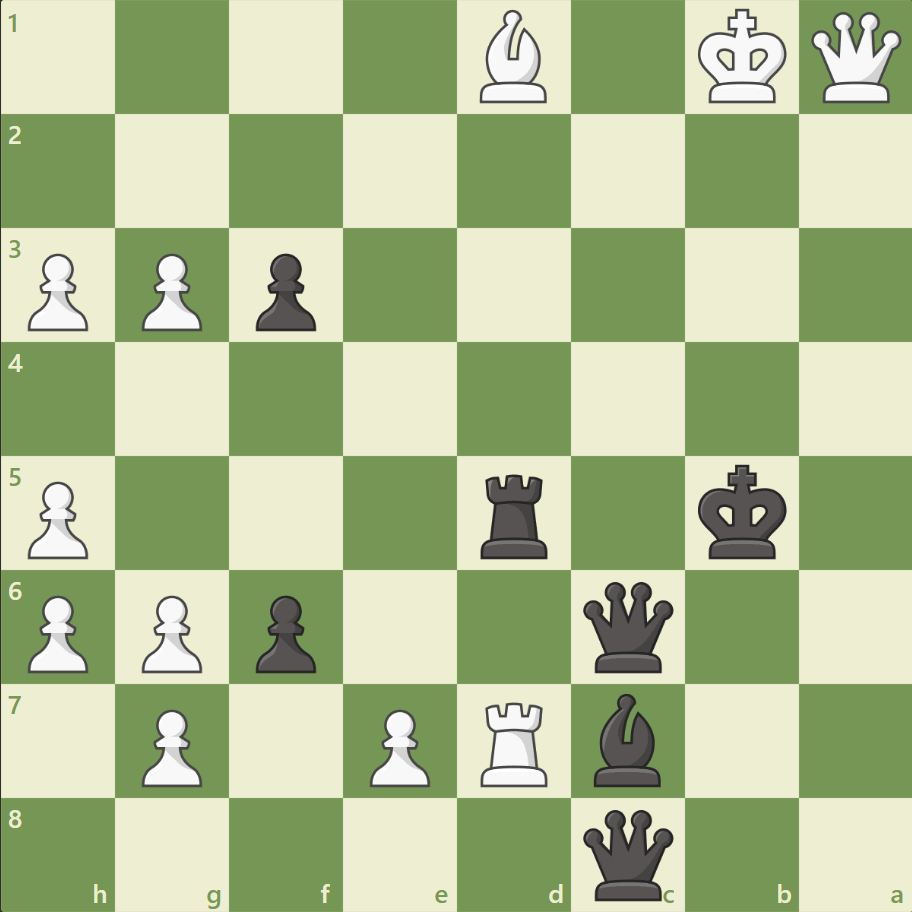B: (471, 6, 555, 109)
K: (692, 4, 792, 112)
P: (133, 700, 208, 791), (133, 586, 208, 677), (20, 586, 95, 677), (20, 473, 95, 564), (133, 246, 208, 337), (20, 246, 95, 337), (361, 700, 435, 791)
Q: (805, 9, 904, 108)
R: (473, 693, 556, 790)
b: (585, 687, 669, 790)
k: (692, 458, 792, 566)
p: (247, 586, 322, 677), (247, 246, 322, 337)
q: (578, 576, 677, 676), (578, 804, 677, 903)
r: (473, 466, 556, 563)
